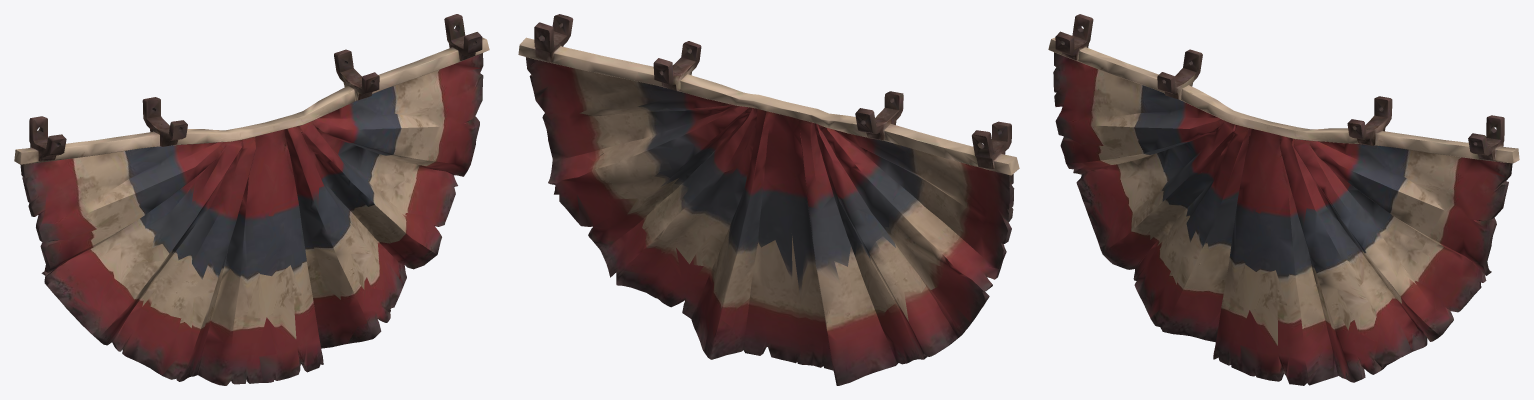
Rendered from bunting_b_idle.glb.
3 renders of one model, left to right at view 1: azimuth 30°, elevation 25°; view 2: azimuth 150°, elevation 25°; view 3: azimuth 330°, elevation 25°, orthographic. The views are drawn at different scales.
Visible parts, largest first — view 1: tripo_node_85181d7b-facd-4cbd-9438-0f551fe6d91f; view 2: tripo_node_85181d7b-facd-4cbd-9438-0f551fe6d91f; view 3: tripo_node_85181d7b-facd-4cbd-9438-0f551fe6d91f.
Boxes of the visible parts, x1,y1,x2,y2 form: tripo_node_85181d7b-facd-4cbd-9438-0f551fe6d91f: (14, 14, 489, 385); tripo_node_85181d7b-facd-4cbd-9438-0f551fe6d91f: (518, 14, 1019, 385); tripo_node_85181d7b-facd-4cbd-9438-0f551fe6d91f: (1048, 14, 1519, 385).
Size of the model in its own units: 1.01 by 0.5998 by 0.1293.
1 material, 1 textured.
